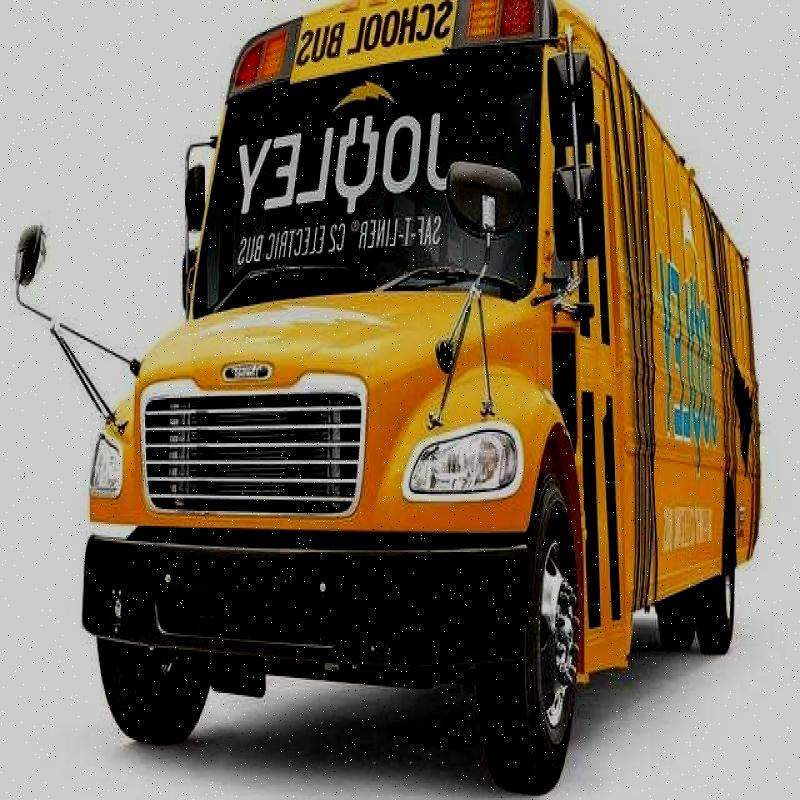bus: (75, 9, 759, 780)
